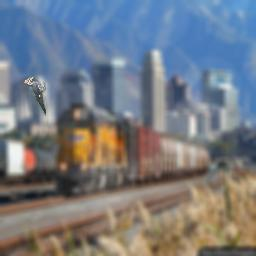Woodpecker: (24, 76, 46, 116)
